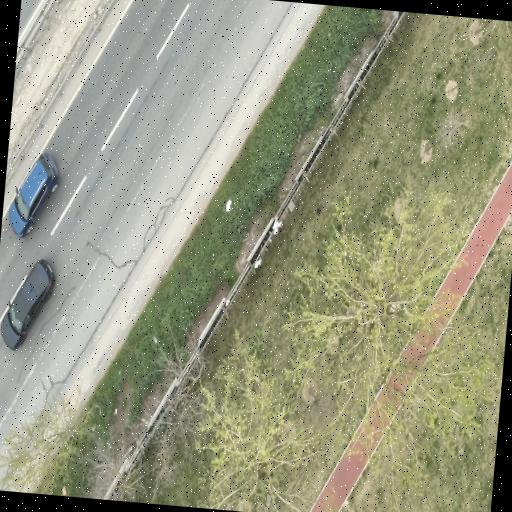car: (1, 260, 53, 348), (9, 153, 58, 237)
